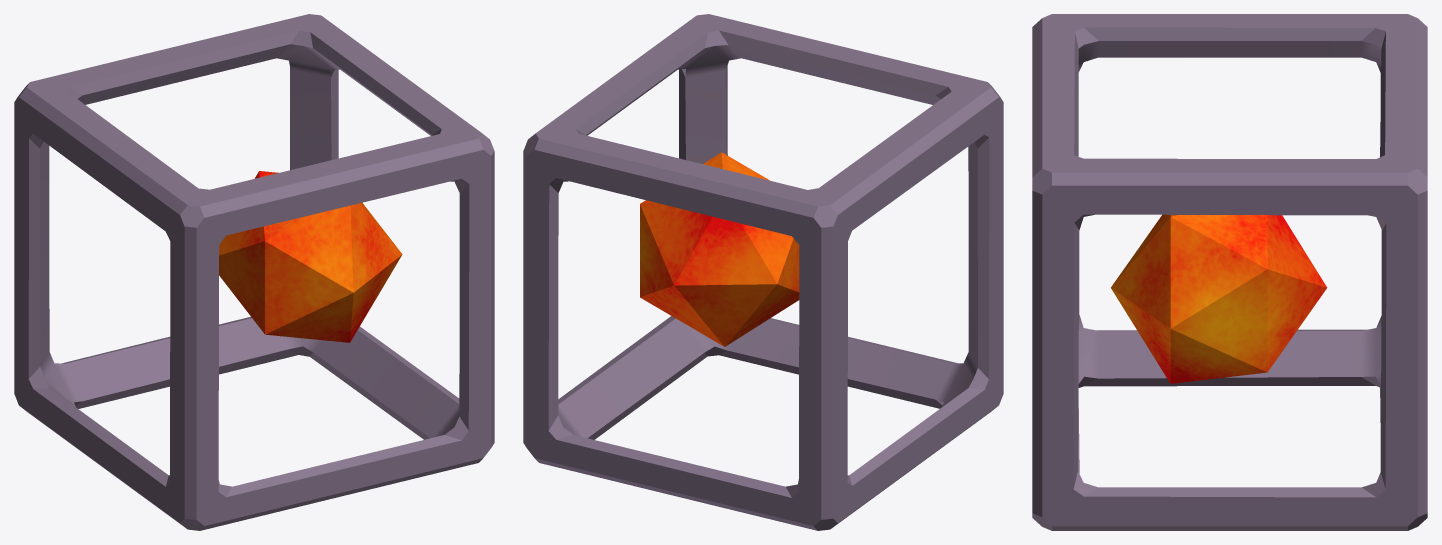
Rendered from fireball.fbx.
3 views of the same model, side by side, from view 1: azimuth 30°, elevation 25°; view 2: azimuth 150°, elevation 25°; view 3: azimuth 270°, elevation 25° (orthographic). The views are drawn at different scales.
Visible parts, largest first — view 1: pPlatonic6; view 2: pPlatonic6; view 3: pPlatonic6.
Boxes of the visible parts, x1,y1,x2,y2 form: pPlatonic6: [14, 14, 494, 530]; pPlatonic6: [523, 14, 1003, 530]; pPlatonic6: [1032, 14, 1427, 530].
Bounding box in the file's own units: 2.97 × 2.97 × 2.97.
1 material, 1 textured.
